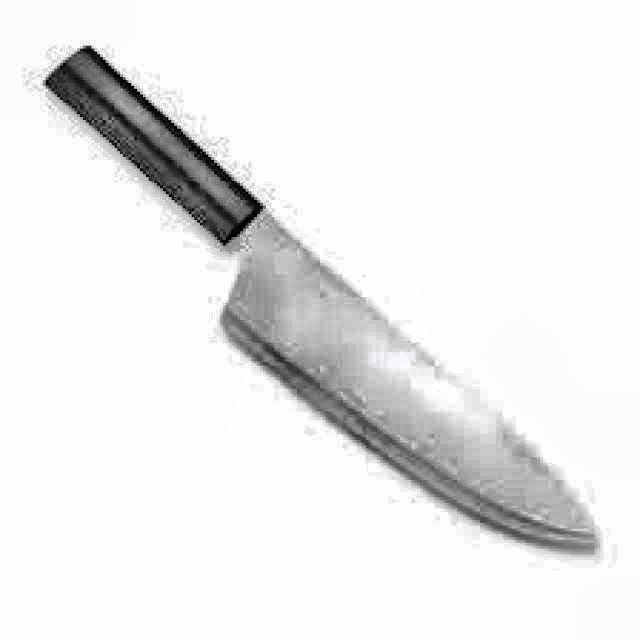knife: (41, 37, 602, 554)
